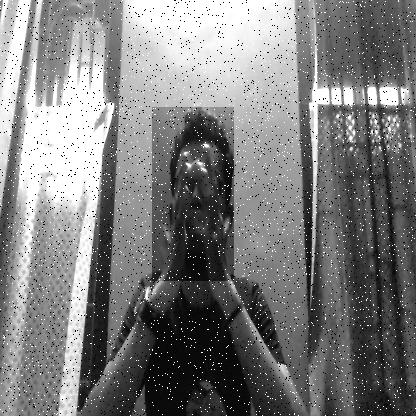Distracted: (152, 107, 234, 281)
